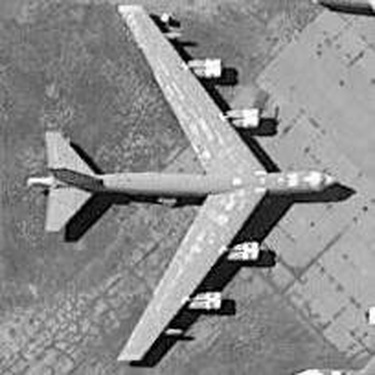airplane: (8, 3, 365, 367)
